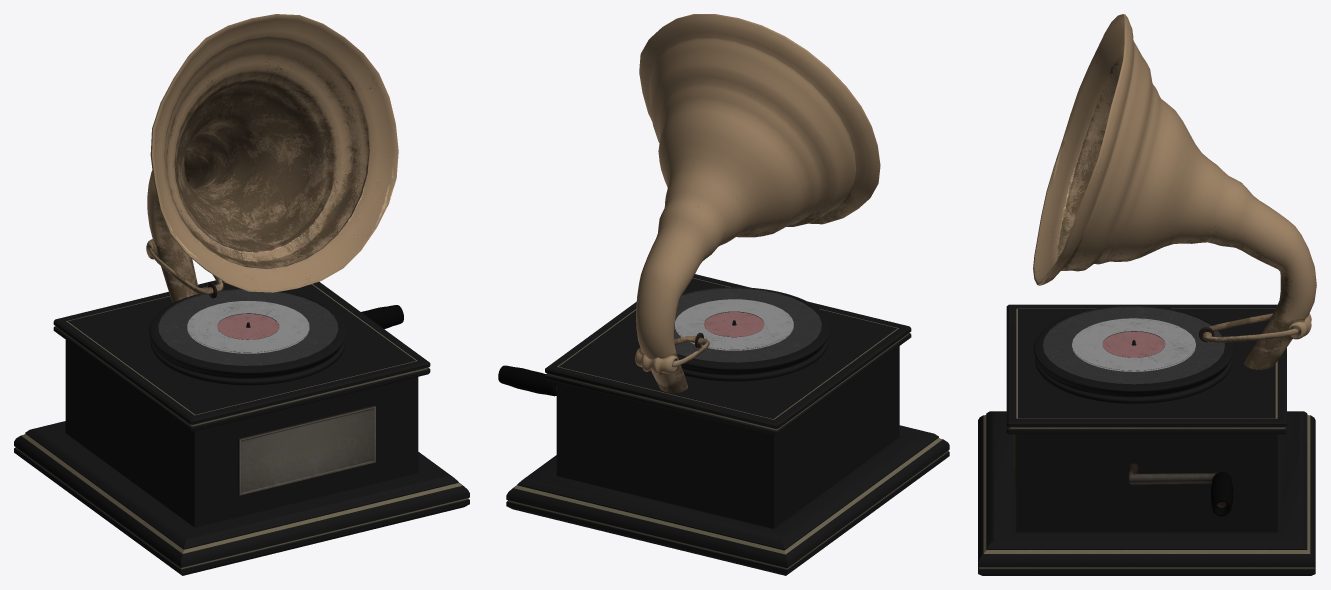
File: gramophone.glb
The picture shows the model from 3 angles, left to right: view 1: azimuth 30°, elevation 25°; view 2: azimuth 150°, elevation 25°; view 3: azimuth 270°, elevation 25°; orthographic projection. The views are drawn at different scales.
Visible parts, largest first — view 1: Gramophone, Handle; view 2: Gramophone, Handle; view 3: Gramophone, Handle.
Part boxes in pixels (bbox=[...]): Gramophone: bbox=[14, 14, 469, 575]; Handle: bbox=[361, 305, 403, 328]; Gramophone: bbox=[506, 14, 949, 575]; Handle: bbox=[498, 365, 556, 396]; Gramophone: bbox=[978, 14, 1316, 575]; Handle: bbox=[1127, 463, 1233, 516].
Bounding box in the file's own units: 1.3 × 1.73 × 1.11.
Materials: 9 (8 with a texture image).
